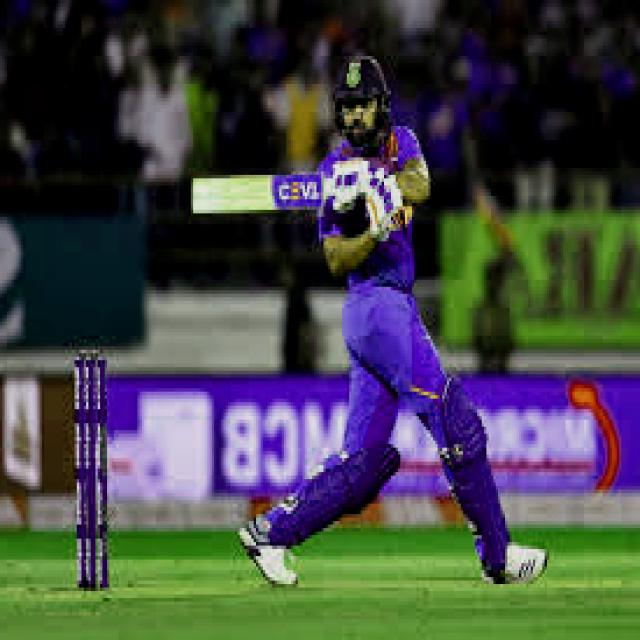toe: (182, 175, 211, 217)
